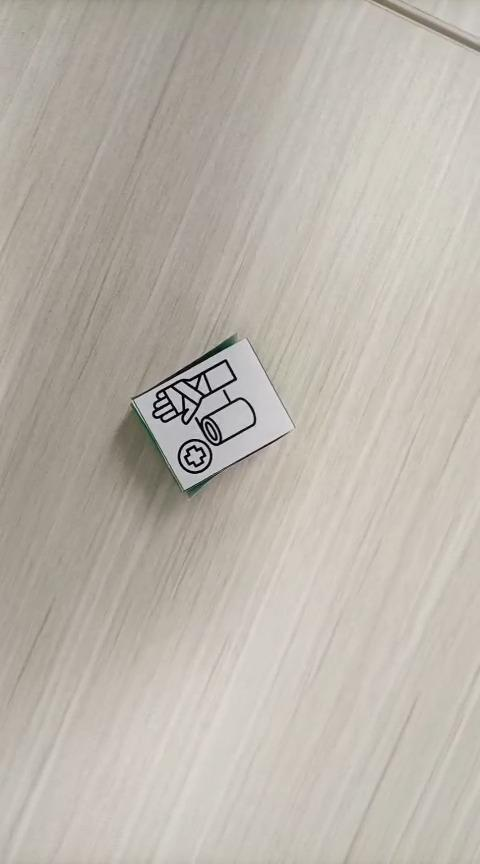Bandages: (128, 331, 295, 494)
